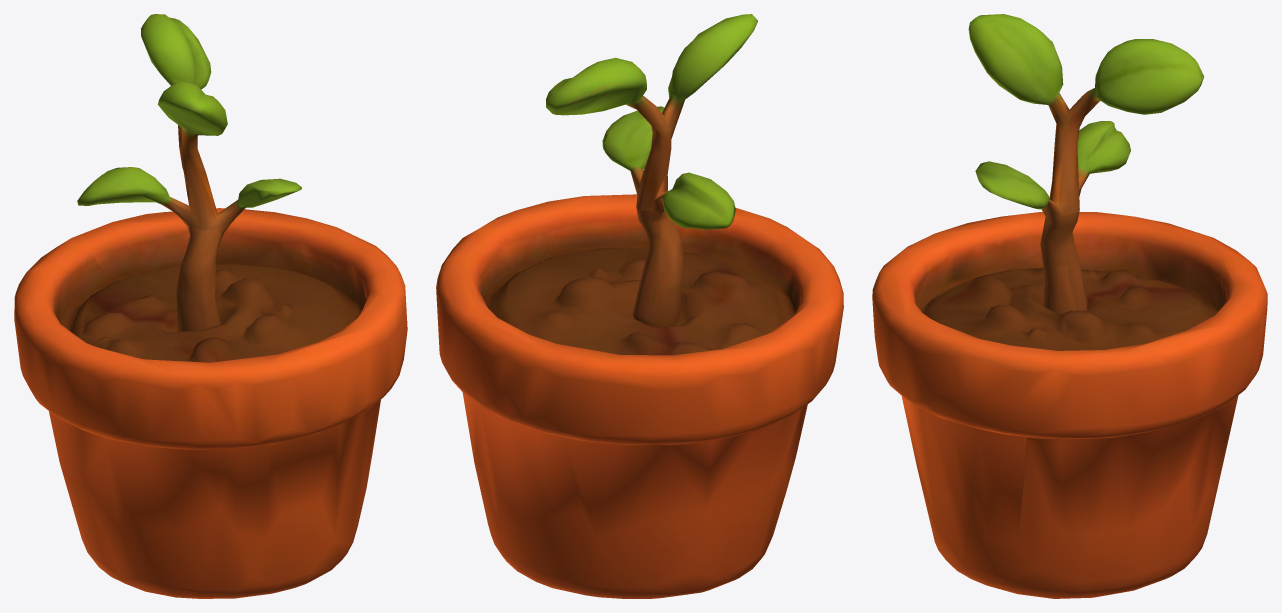
3 renders of one model, left to right at view 1: azimuth 30°, elevation 25°; view 2: azimuth 150°, elevation 25°; view 3: azimuth 270°, elevation 25°, orthographic. The views are drawn at different scales.
Visible parts, largest first — view 1: tripo_node_e120a446-73b2-492c-a73e-3158402d3439; view 2: tripo_node_e120a446-73b2-492c-a73e-3158402d3439; view 3: tripo_node_e120a446-73b2-492c-a73e-3158402d3439.
Boxes of the visible parts, x1,y1,x2,y2 form: tripo_node_e120a446-73b2-492c-a73e-3158402d3439: (14,14,407,598); tripo_node_e120a446-73b2-492c-a73e-3158402d3439: (436,14,843,598); tripo_node_e120a446-73b2-492c-a73e-3158402d3439: (872,14,1267,598).
Size of the model in its own units: 0.7944 by 1.12 by 0.795.
Materials: 1 (1 with a texture image).
